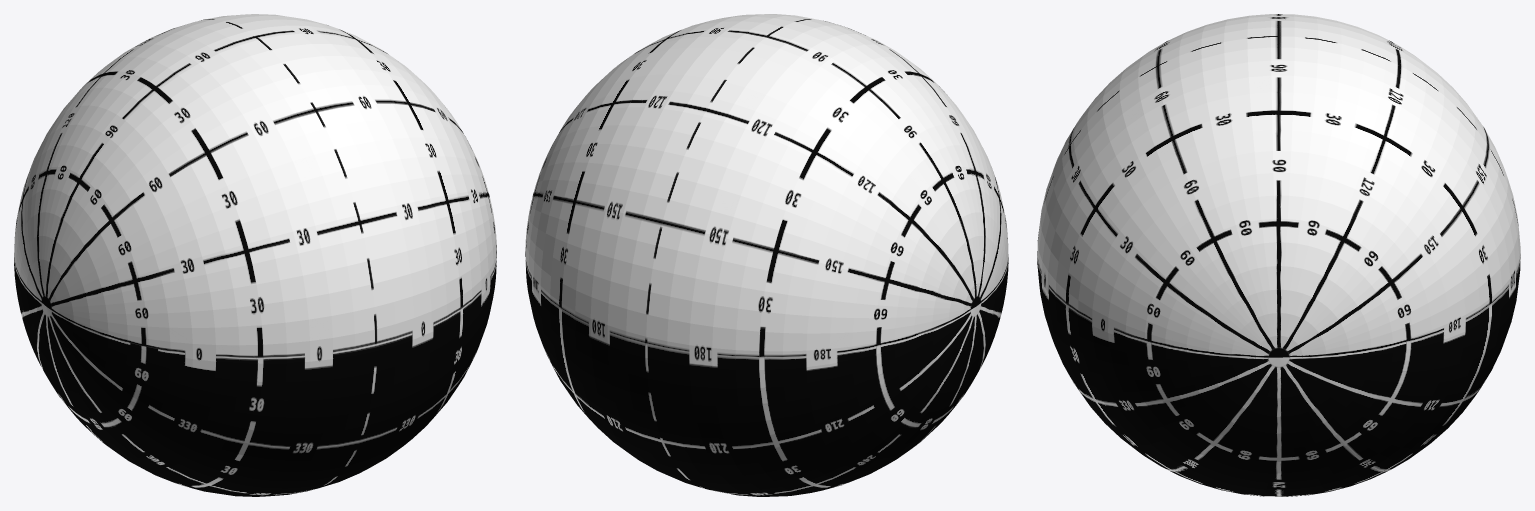
File: Orion_CM_FDAI.dae
The picture shows the model from 3 angles, left to right: view 1: azimuth 30°, elevation 25°; view 2: azimuth 150°, elevation 25°; view 3: azimuth 270°, elevation 25°; orthographic projection.
Visible parts, largest first — view 1: Sphere; view 2: Sphere; view 3: Sphere.
Part boxes in pixels (x1=…): Sphere: x1=14, y1=14, x2=496, y2=496; Sphere: x1=525, y1=14, x2=1008, y2=496; Sphere: x1=1037, y1=14, x2=1520, y2=496.
Bounding box in the file's own units: 0.2 × 0.1999 × 0.1999.
1 material, 1 textured.
